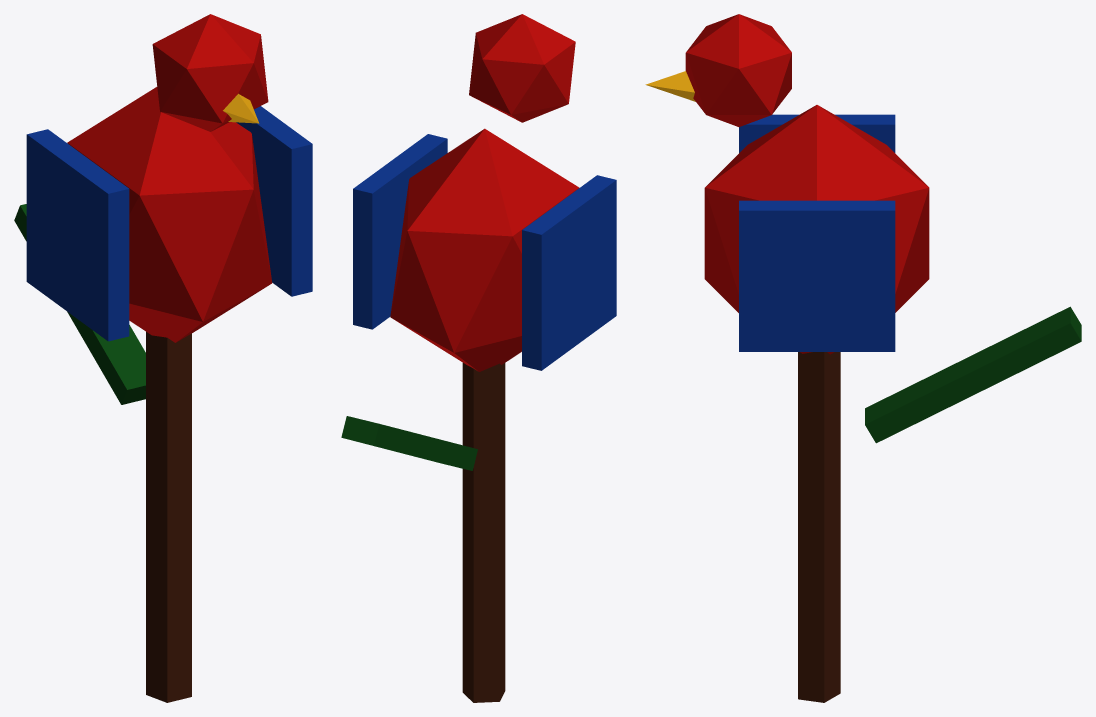
File: parrot.obj
3 views of the same model, side by side, from view 1: azimuth 30°, elevation 25°; view 2: azimuth 150°, elevation 25°; view 3: azimuth 270°, elevation 25° (orthographic). The views are drawn at different scales.
Parts seen in each view (by area): view 1: parrot; view 2: parrot; view 3: parrot.
Boxes of the visible parts, box(x1,y1,x2,y2) form: parrot: box(14, 14, 312, 702); parrot: box(341, 14, 616, 702); parrot: box(645, 14, 1081, 702).
Bounding box in the file's own units: 0.29 × 0.96 × 0.5588.
